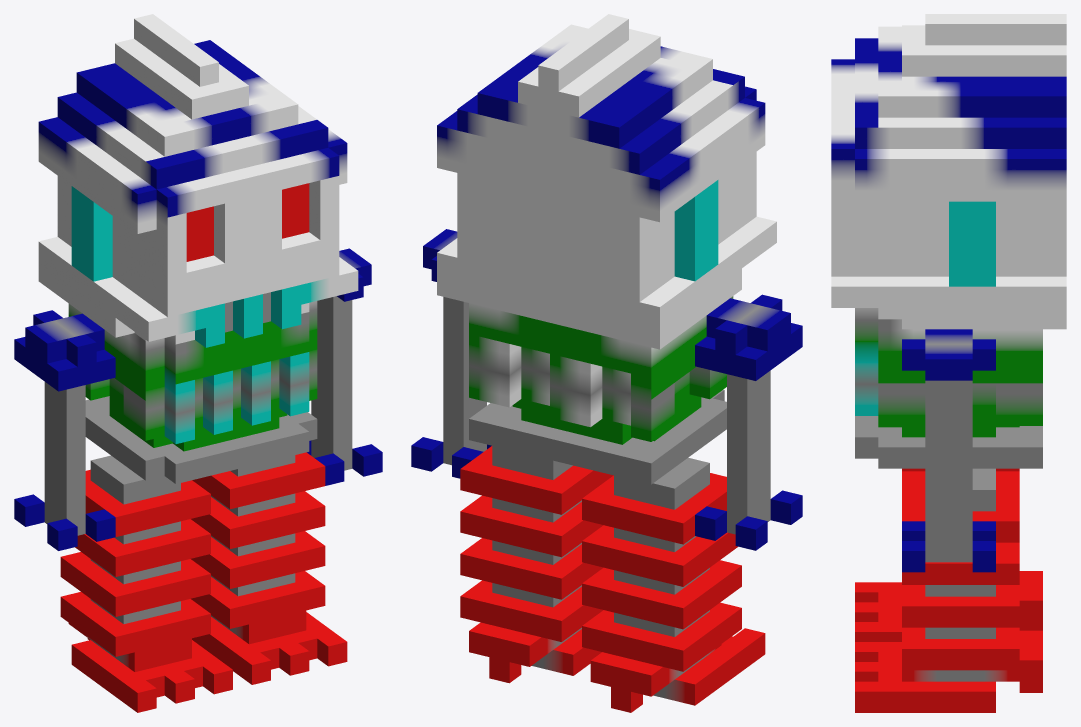
The model's file is Mike.fbx.
3 renders of one model, left to right at view 1: azimuth 30°, elevation 25°; view 2: azimuth 150°, elevation 25°; view 3: azimuth 270°, elevation 25°, orthographic. The views are drawn at different scales.
Parts seen in each view (by area): view 1: Main, RightFoot, LeftFoot, RightHand, LeftHand; view 2: Main, RightFoot, LeftFoot, RightHand, LeftHand; view 3: Main, LeftFoot, LeftHand, RightFoot.
Part boxes in pixels (bbox=[...]): Main: bbox=[38, 14, 358, 483]; RightFoot: bbox=[60, 455, 232, 712]; LeftFoot: bbox=[191, 452, 347, 684]; RightHand: bbox=[14, 310, 115, 550]; LeftHand: bbox=[307, 248, 382, 485]; Main: bbox=[437, 14, 776, 484]; RightFoot: bbox=[582, 457, 765, 712]; LeftFoot: bbox=[460, 445, 613, 683]; RightHand: bbox=[695, 294, 802, 550]; LeftHand: bbox=[411, 229, 491, 478]; Main: bbox=[831, 14, 1066, 468]; LeftFoot: bbox=[855, 468, 1042, 712]; LeftHand: bbox=[902, 329, 995, 572]; RightFoot: bbox=[855, 468, 1042, 641].
Size of the model in its own units: 17 by 30 by 10.
Materials: 1 (1 with a texture image).
